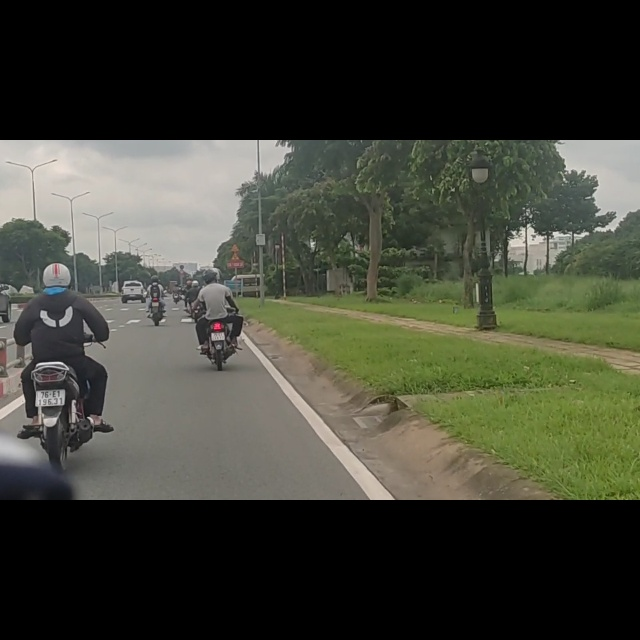bien_cam: (231, 183, 240, 198), (231, 200, 241, 213), (179, 220, 185, 230)
